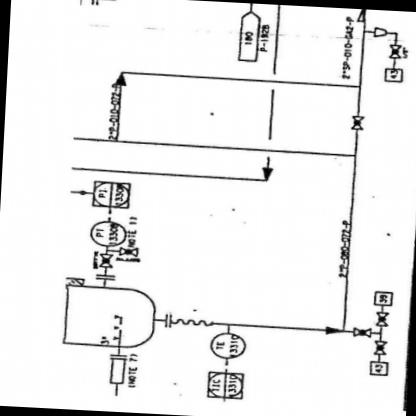LMI: (204, 329, 254, 358), (87, 218, 127, 246)
TAG: (203, 368, 251, 398), (90, 178, 134, 208)
